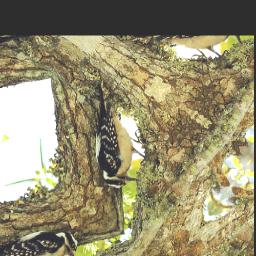Woodpecker: (48, 79, 175, 202)
